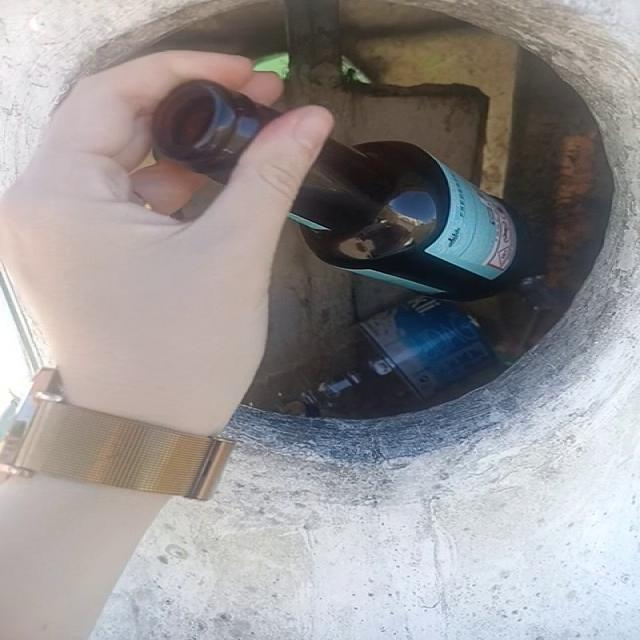Glass: (291, 139, 527, 300), (152, 80, 280, 182)
